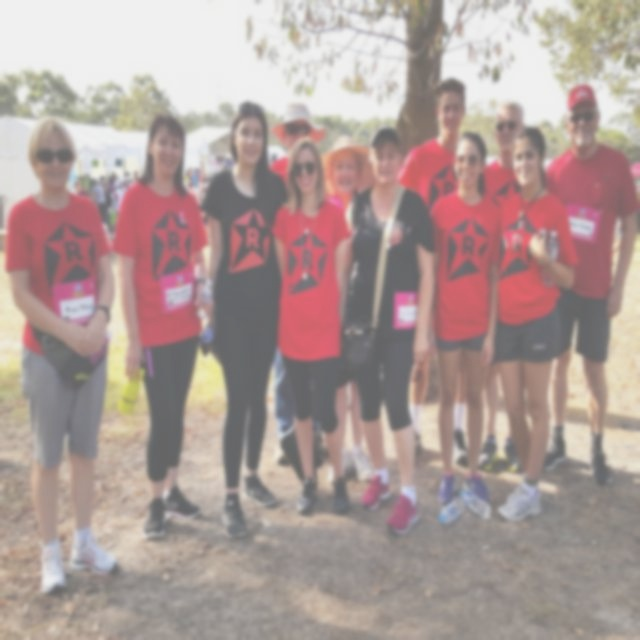pessoa: (3, 115, 118, 600), (114, 111, 212, 542), (540, 82, 640, 487), (344, 122, 441, 536), (202, 98, 290, 542), (492, 126, 581, 524), (268, 137, 356, 517), (425, 127, 505, 507), (477, 98, 547, 470), (266, 102, 326, 468), (319, 135, 376, 485), (397, 75, 467, 214), (70, 167, 140, 230), (184, 150, 234, 216), (610, 216, 626, 242), (634, 176, 640, 236)
